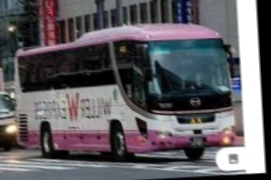bus: (11, 21, 235, 166)
